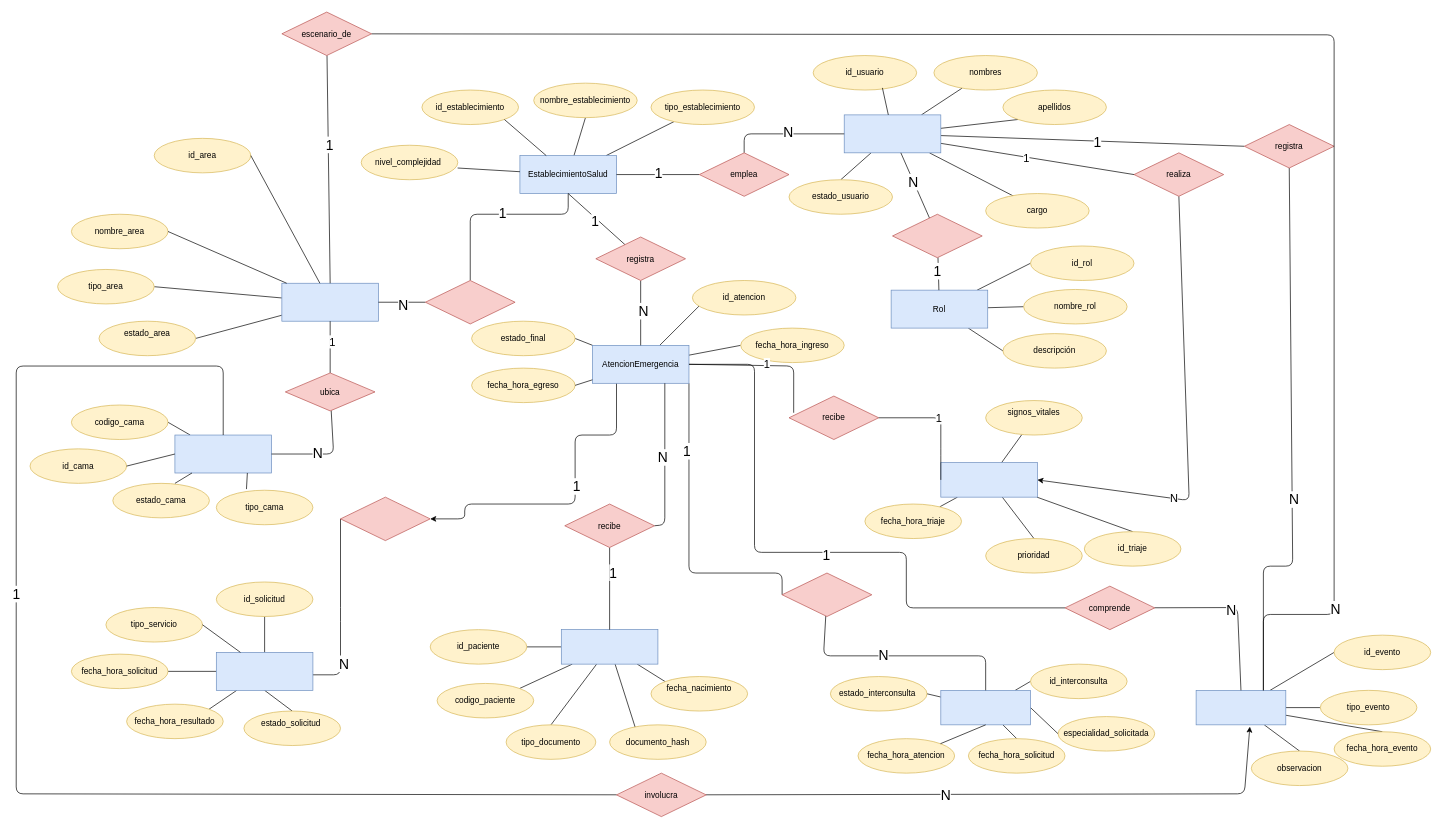
Some shapes in this 1443 by 829 pixel diagram are drawn without their labels. The box of each missing label's shape, as (x1, y1, x2, y2) in pixels:
AreaAtencion: (281, 283, 378, 321)
asigna: (892, 214, 982, 258)
CamaRecurso: (174, 434, 272, 473)
contiene: (425, 280, 515, 324)
EventoAtencion: (1195, 690, 1286, 725)
genera: (340, 496, 430, 541)
interconsulta: (940, 690, 1031, 725)
Paciente: (561, 629, 658, 664)
requiere: (781, 572, 872, 617)
SolicitudServicioApoyo: (216, 652, 313, 690)
Triaje: (940, 462, 1037, 497)
UsuarioPersonalSalud: (844, 114, 941, 153)
